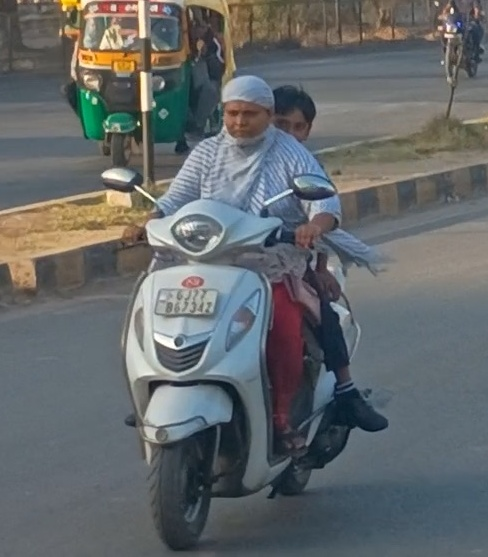BikeWithRider: (96, 73, 392, 551)
NoHelmet: (221, 74, 280, 143), (272, 84, 317, 148)
